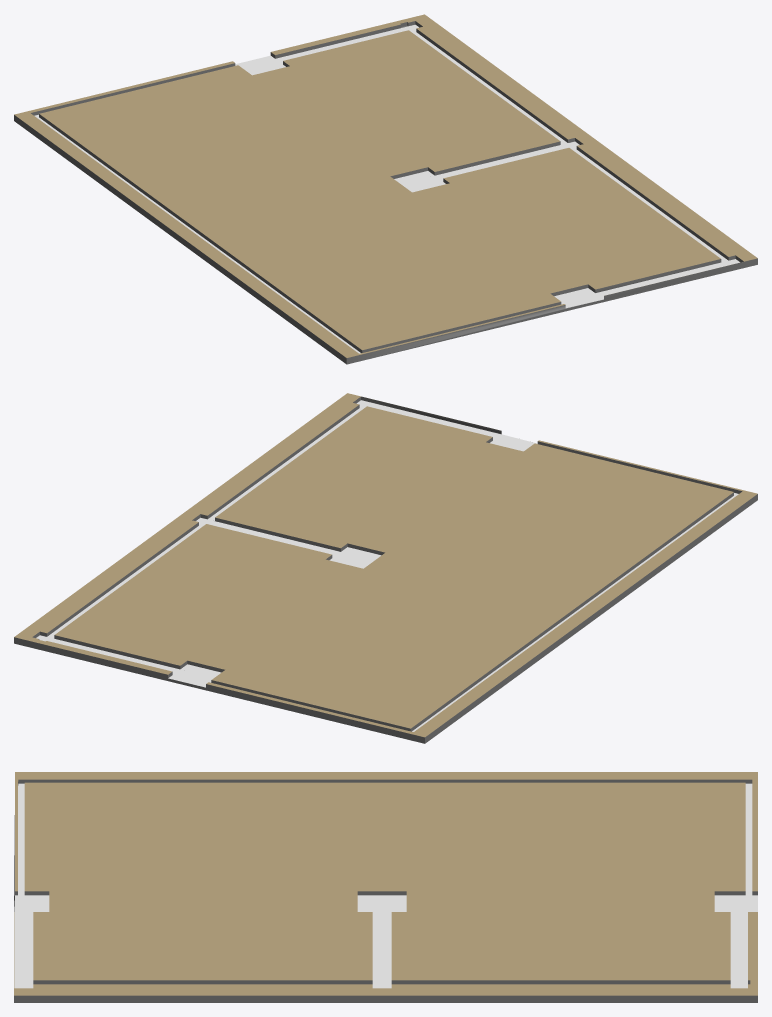
The model's file is Bodenplatte.fbx.
3 views of the same model, one above another, from view 1: azimuth 30°, elevation 25°; view 2: azimuth 150°, elevation 25°; view 3: azimuth 270°, elevation 25° (orthographic). The views are drawn at different scales.
Visible parts, largest first — view 1: Box039; view 2: Box039; view 3: Box039.
Part boxes in pixels (x1,y1,x2,y2): Box039: (14, 14, 757, 364); Box039: (14, 393, 757, 743); Box039: (14, 772, 757, 1002).
Size of the model in its own units: 74.11 by 1.11 by 104.
